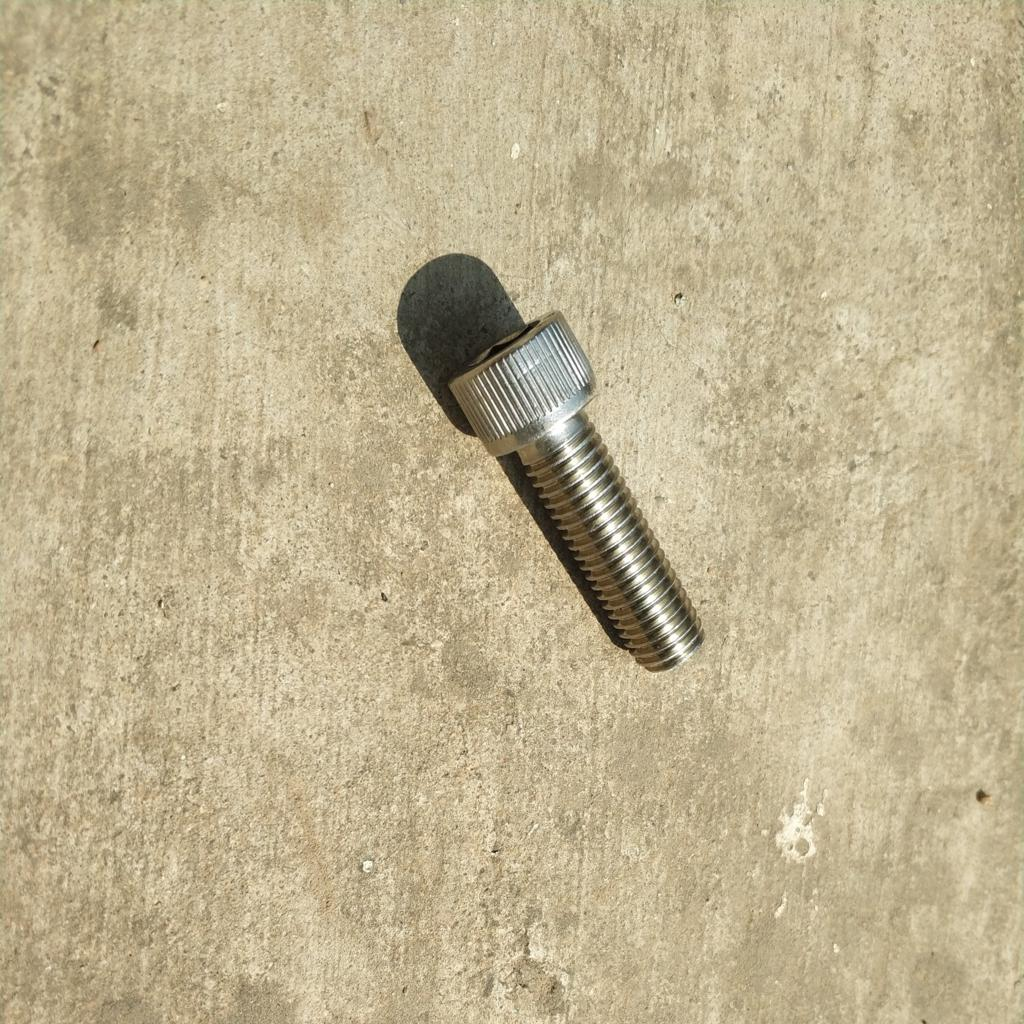screwtype1silver: (444, 304, 709, 681)
